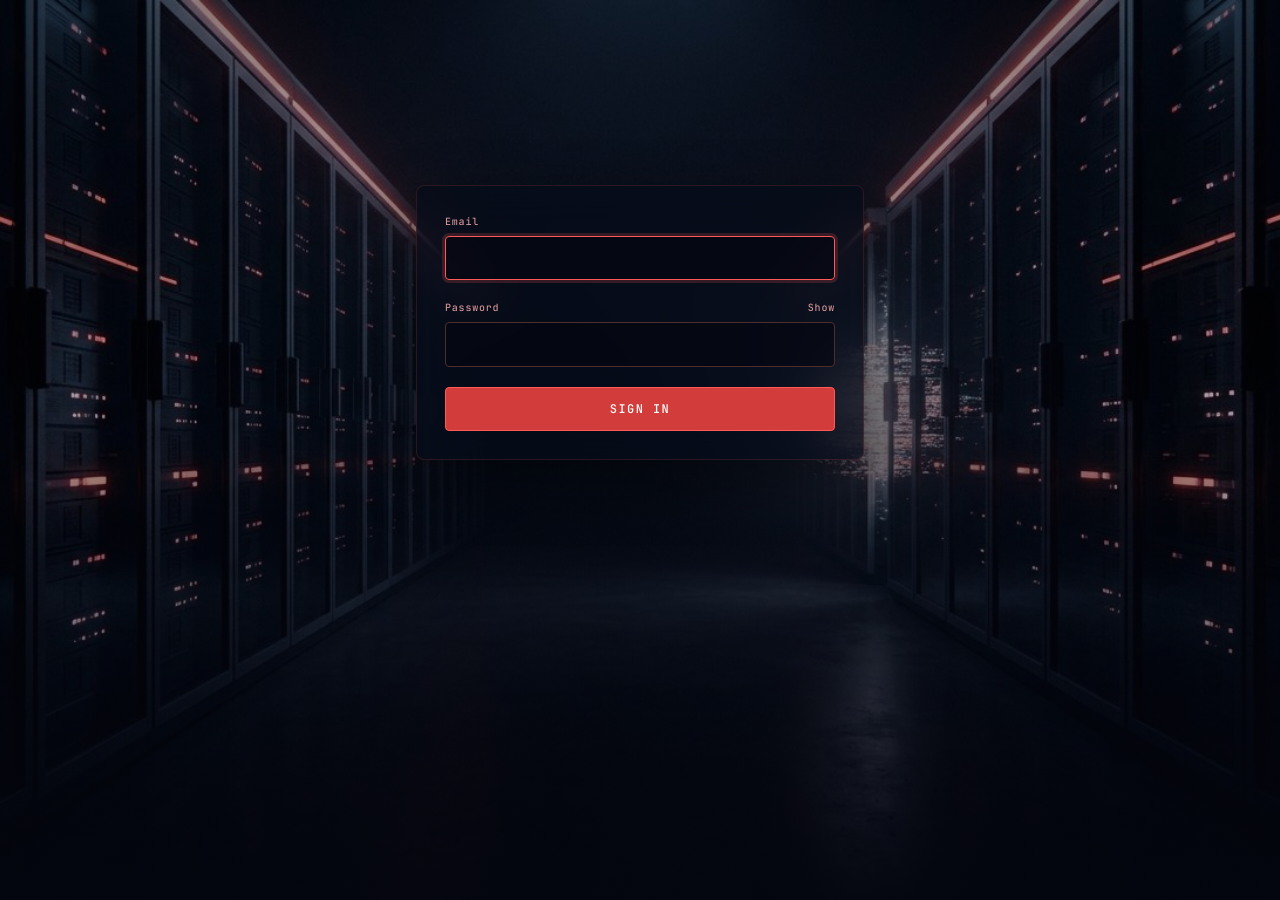
LoginPage › shows the refusal as an alert, clears the password and keeps the email
Type "alice@redsim.local" into the field labelled "Email" at (640, 258), box x1=445 y1=236 x2=835 y2=280
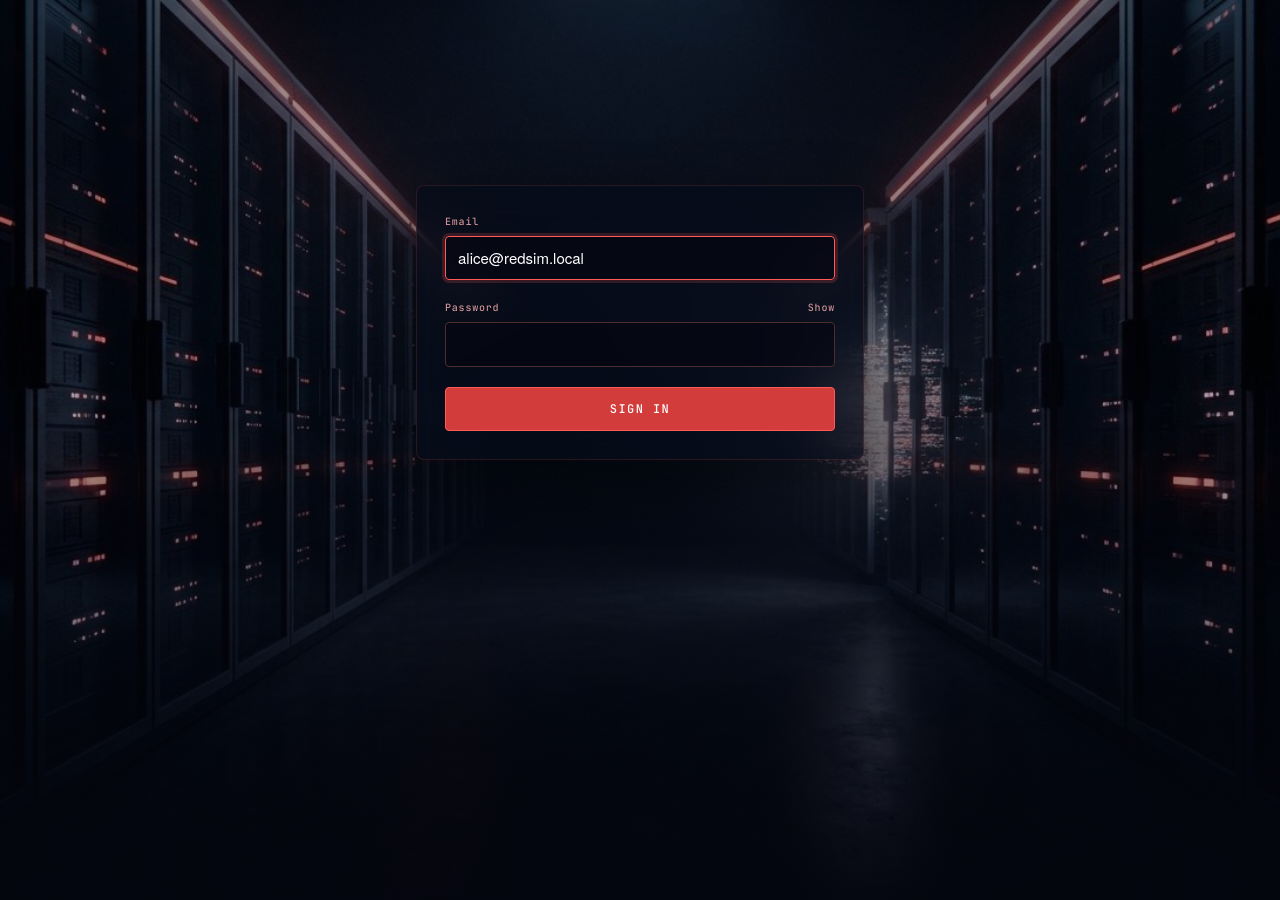
Type "wrong" into the password field labelled "Password" at (640, 344), box x1=445 y1=322 x2=835 y2=366
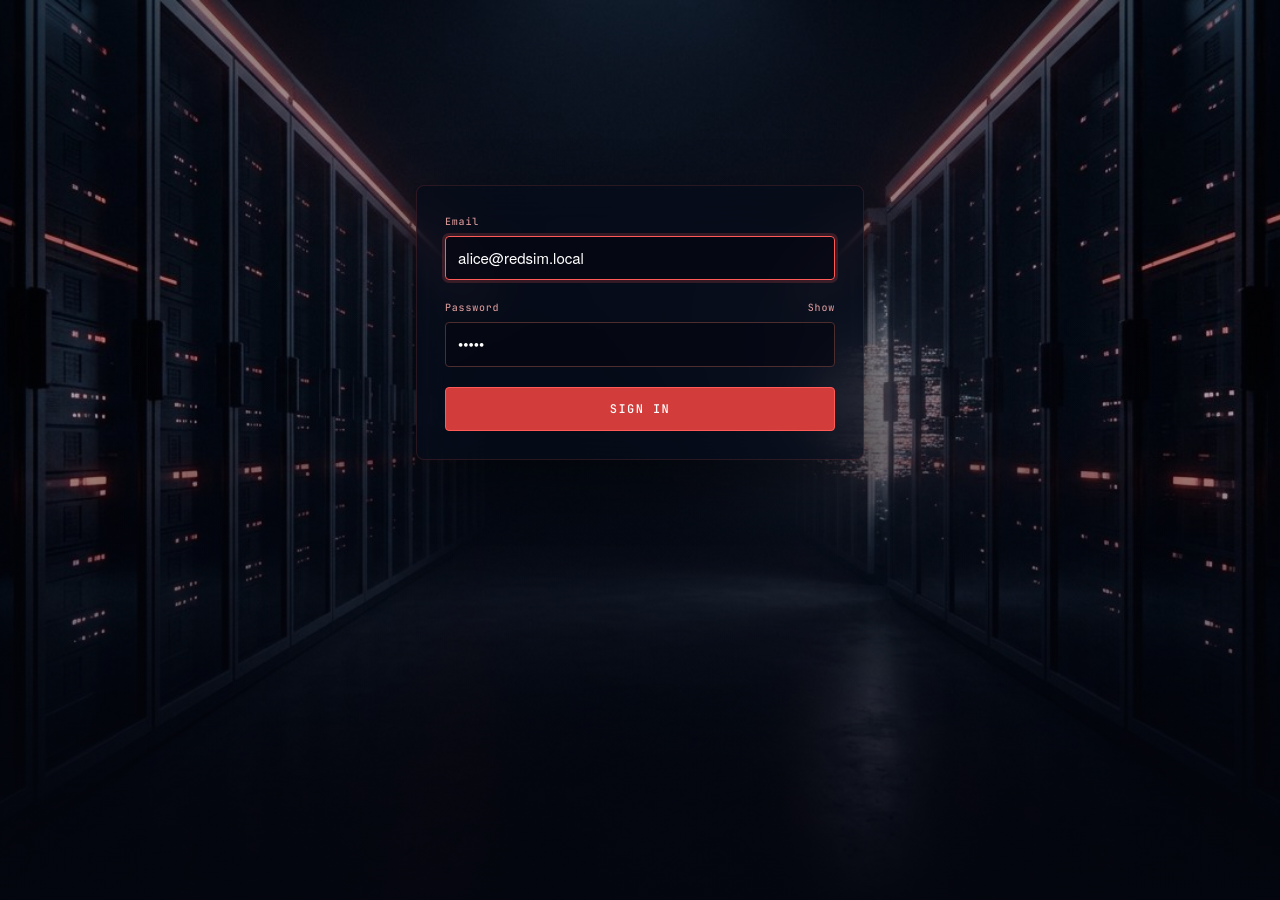
Click the button "Sign in" at (640, 408), box x1=445 y1=386 x2=835 y2=430
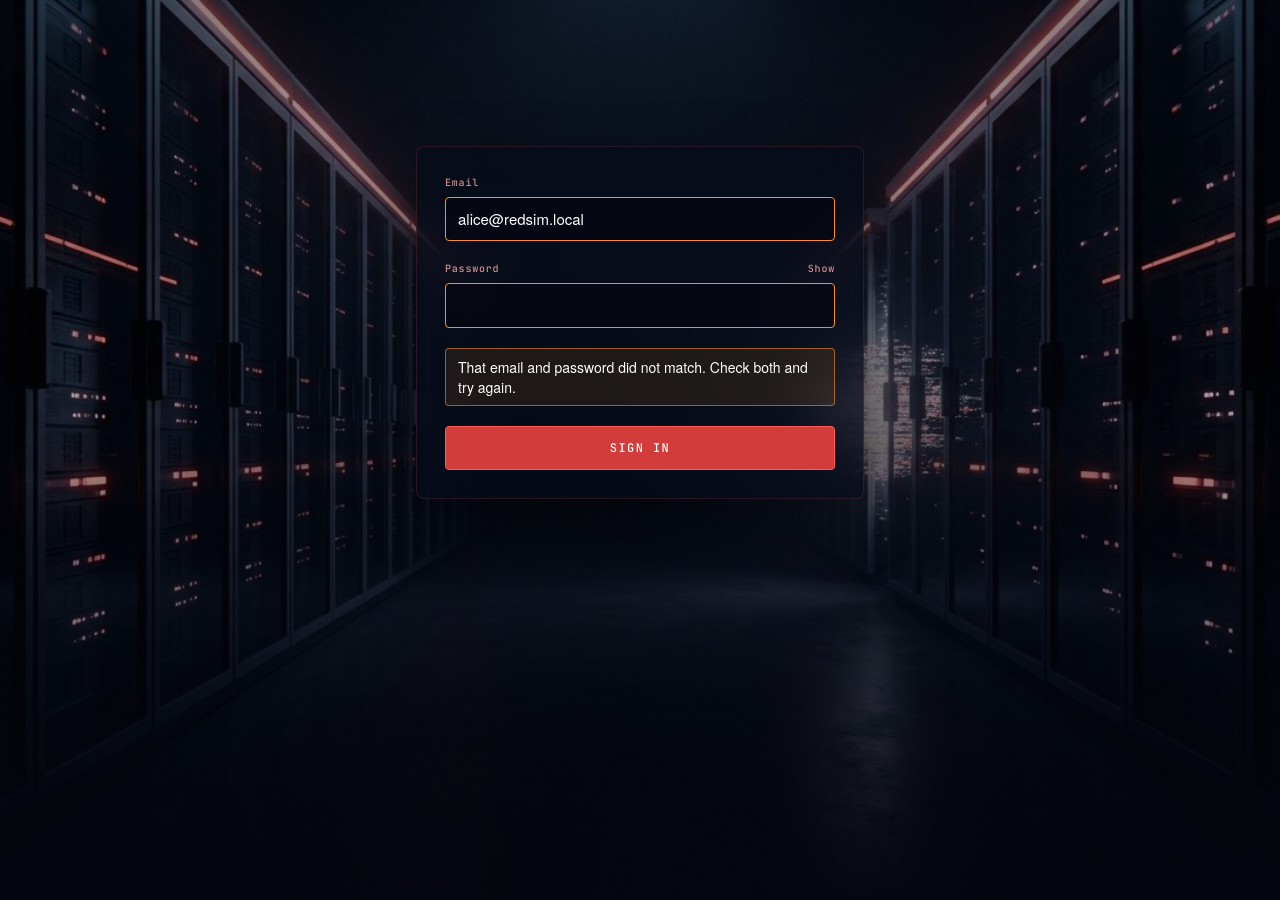
Check: the button "Sign in" is enabled, box x1=445 y1=426 x2=835 y2=470
Check: the message shows "did not match", box x1=458 y1=356 x2=808 y2=396
Check: the password field labelled "Password" is empty, box x1=445 y1=283 x2=835 y2=328
